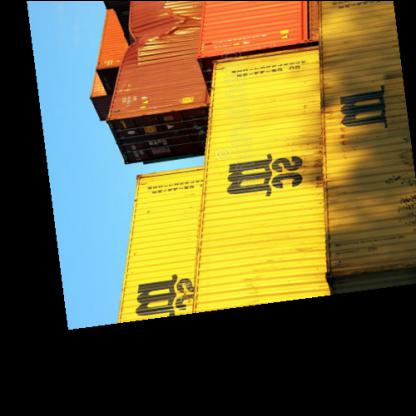Damage: (126, 4, 188, 58)
